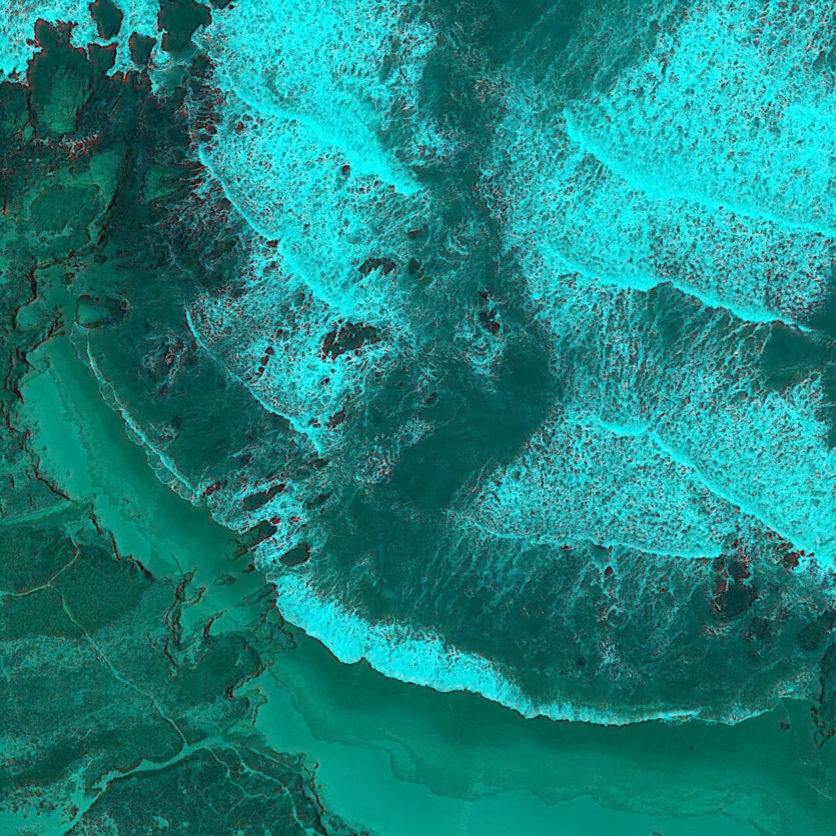rip_current: (362, 19, 583, 623)
